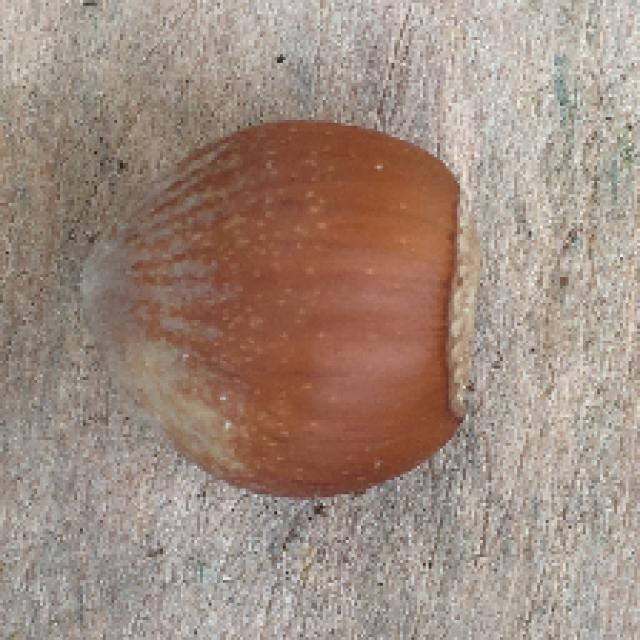QualityHazelnut: (76, 118, 476, 500)
